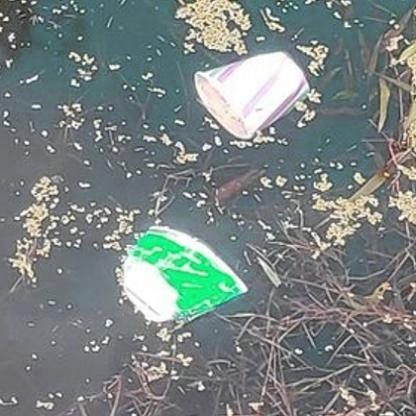Plastic: (113, 218, 251, 332), (190, 45, 318, 148)
